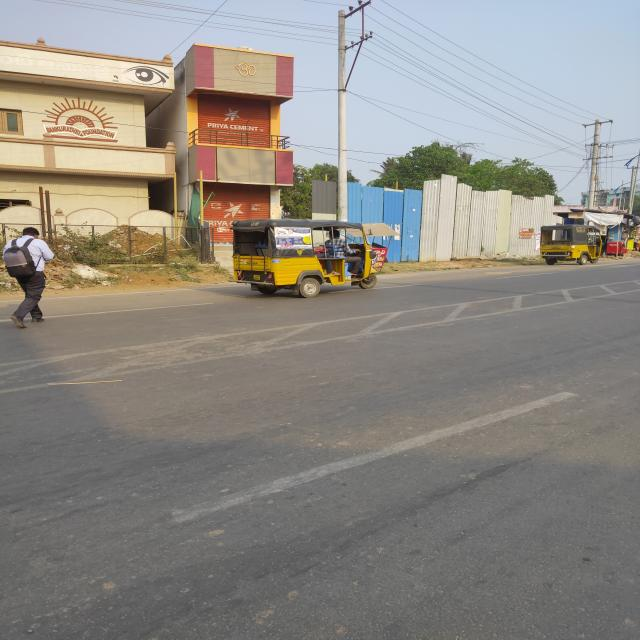tempo: (218, 197, 396, 294), (534, 214, 608, 278)
